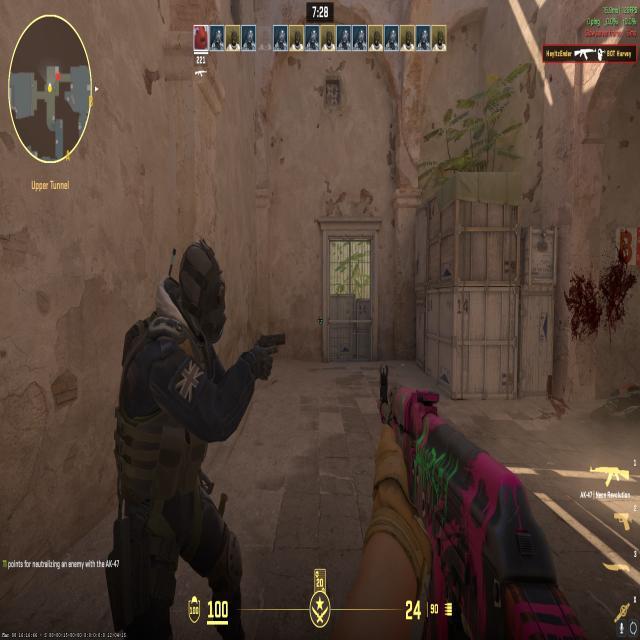ct: (100, 218, 261, 636)
